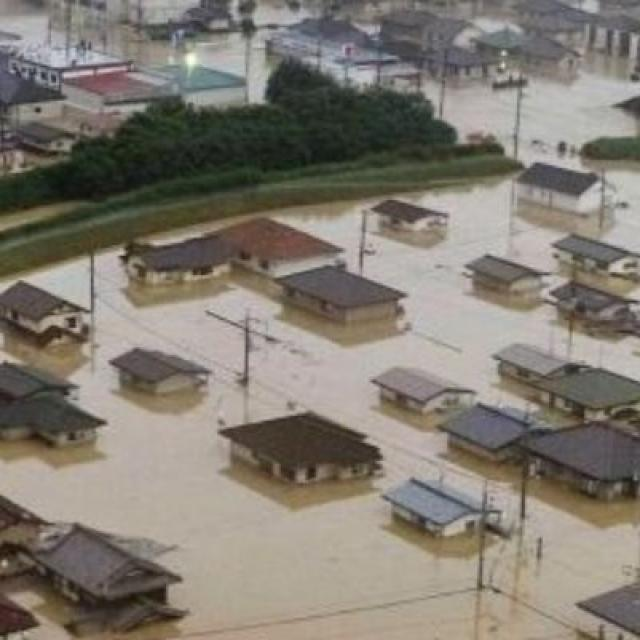flooded_areas: (19, 6, 639, 637)
